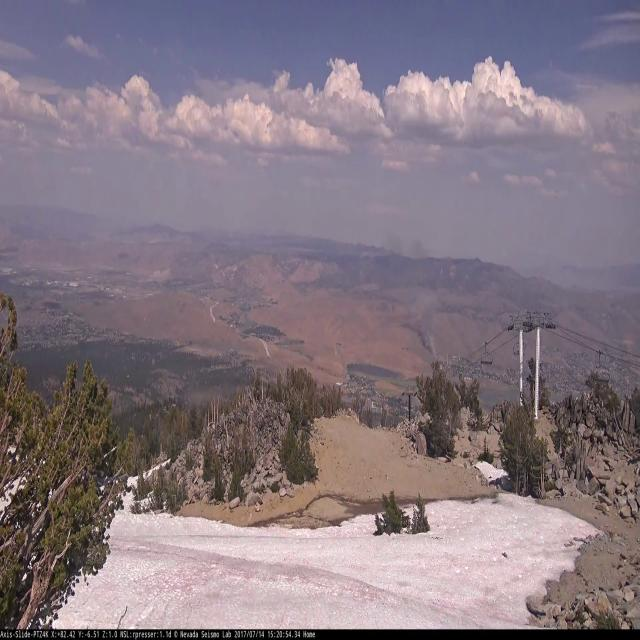smoke: (370, 231, 440, 363)
